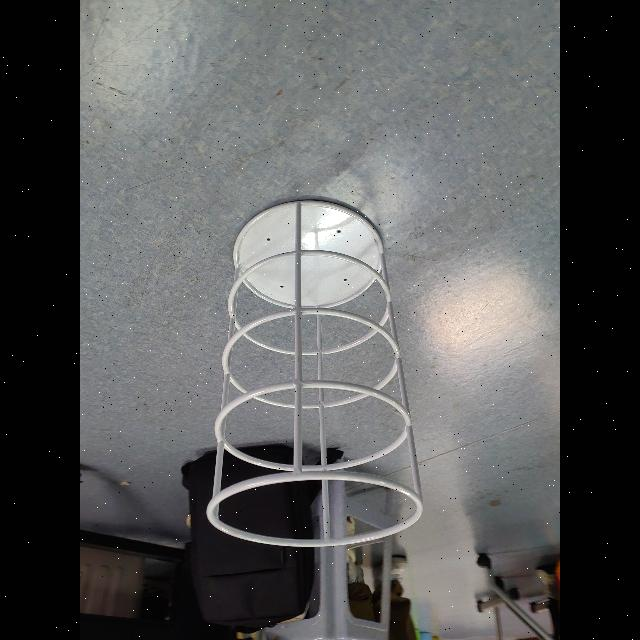S: (202, 198, 428, 550)
